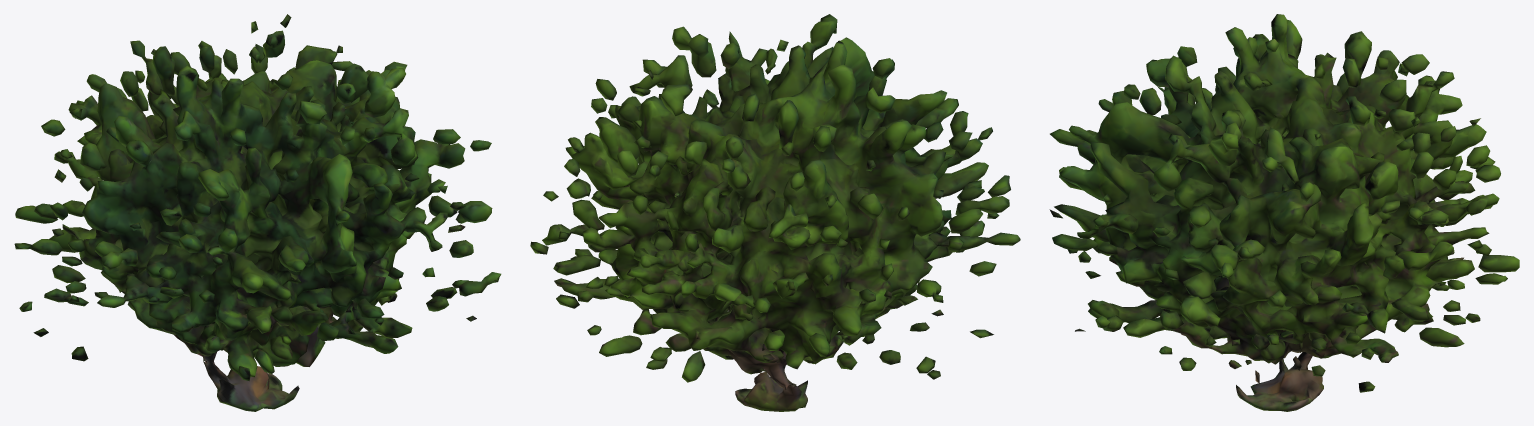
The model's file is AI_SprawlingBush.fbx.
3 views of the same model, side by side, from view 1: azimuth 30°, elevation 25°; view 2: azimuth 150°, elevation 25°; view 3: azimuth 270°, elevation 25° (orthographic).
Parts seen in each view (by area): view 1: Mesh1; view 2: Mesh1; view 3: Mesh1.
Boxes of the visible parts, x1,y1,x2,y2 form: Mesh1: (14,14,501,411); Mesh1: (530,14,1020,411); Mesh1: (1049,14,1519,411).
Bounding box in the file's own units: 182 × 152 × 178.
1 material, 1 textured.
